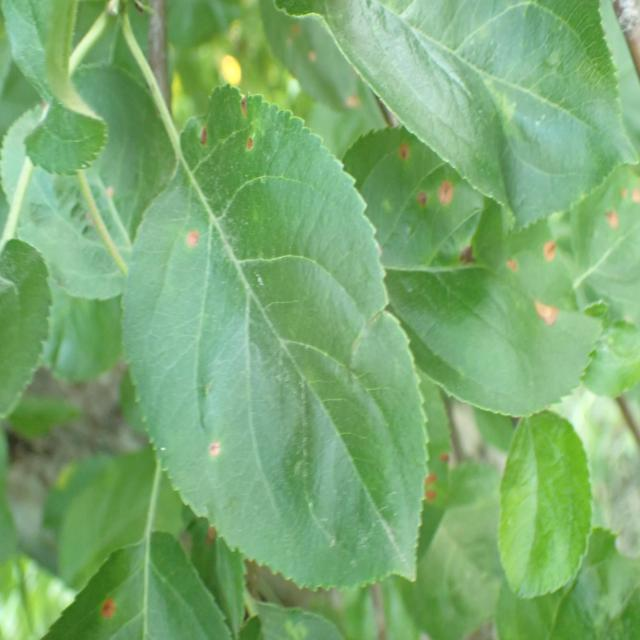Black Rot: (169, 215, 210, 261), (184, 108, 217, 162), (229, 128, 269, 172), (526, 292, 572, 328), (202, 428, 237, 473), (456, 232, 482, 292), (336, 86, 370, 131), (596, 195, 621, 248), (386, 131, 415, 173), (533, 234, 564, 272), (436, 170, 460, 213), (300, 43, 328, 78), (626, 163, 640, 231), (408, 182, 431, 220), (496, 248, 522, 280), (236, 85, 256, 122)
